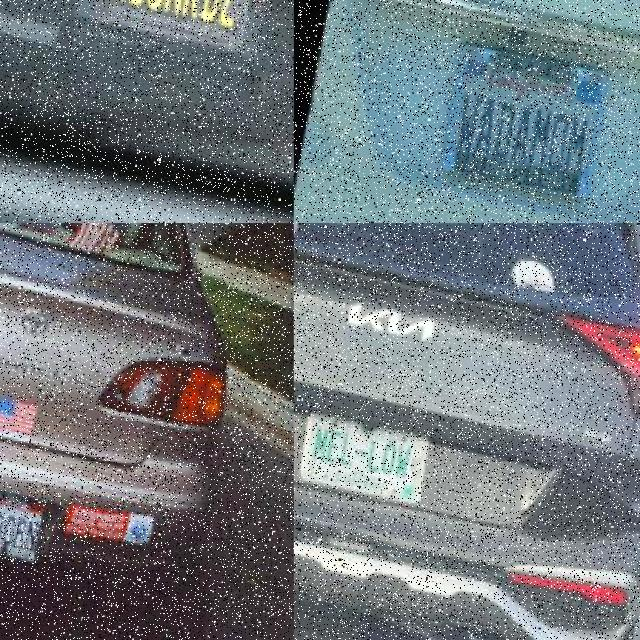licenseplate: (439, 38, 616, 197), (89, 0, 263, 86), (295, 408, 429, 502), (0, 478, 54, 557)
